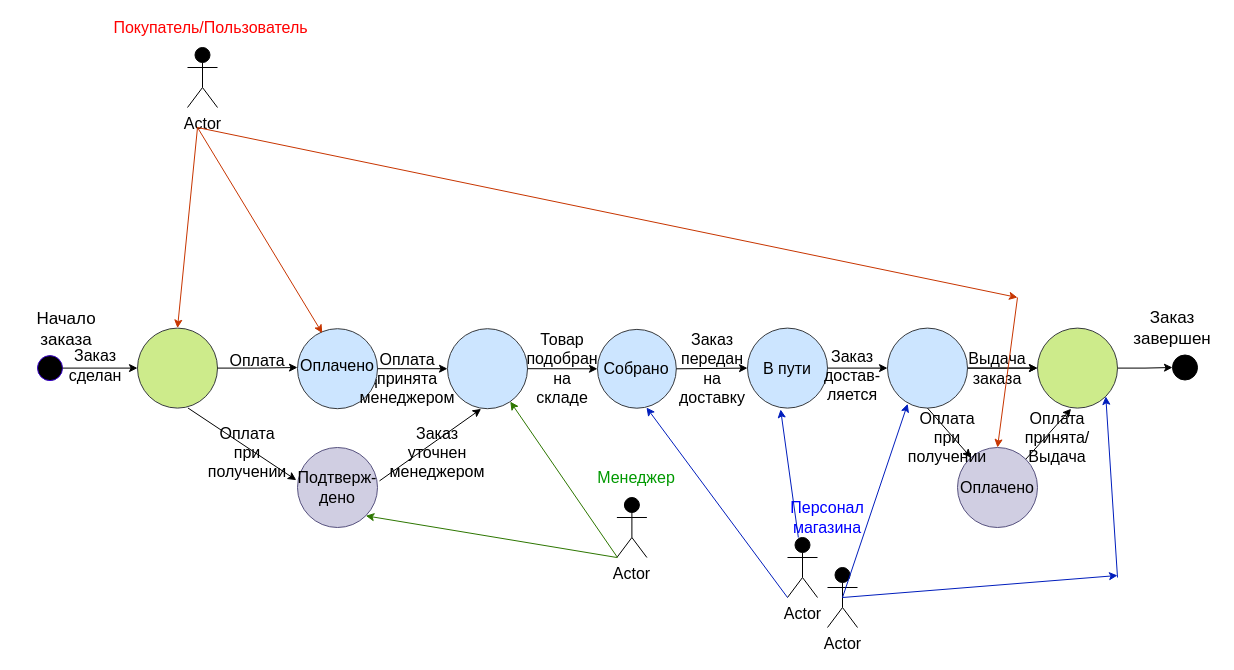
This 1234x670 diagram has some shape labels left out. Here are the shapes that lost their labels. From the top down, the centre of each, then its label:
[177,367]: Заказано
[487,368]: Обработано
[927,367]: В пункте выдачи
[1077,367]: Выдано
